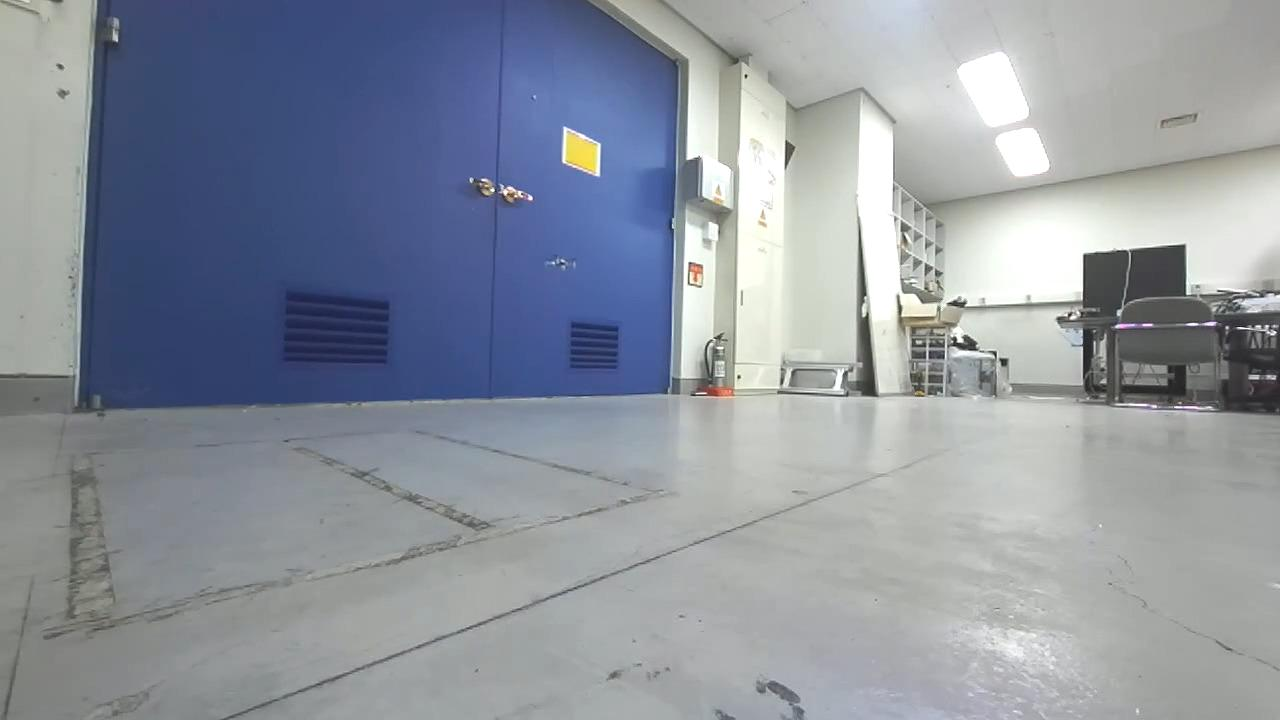crazyflie: (534, 248, 586, 275)
